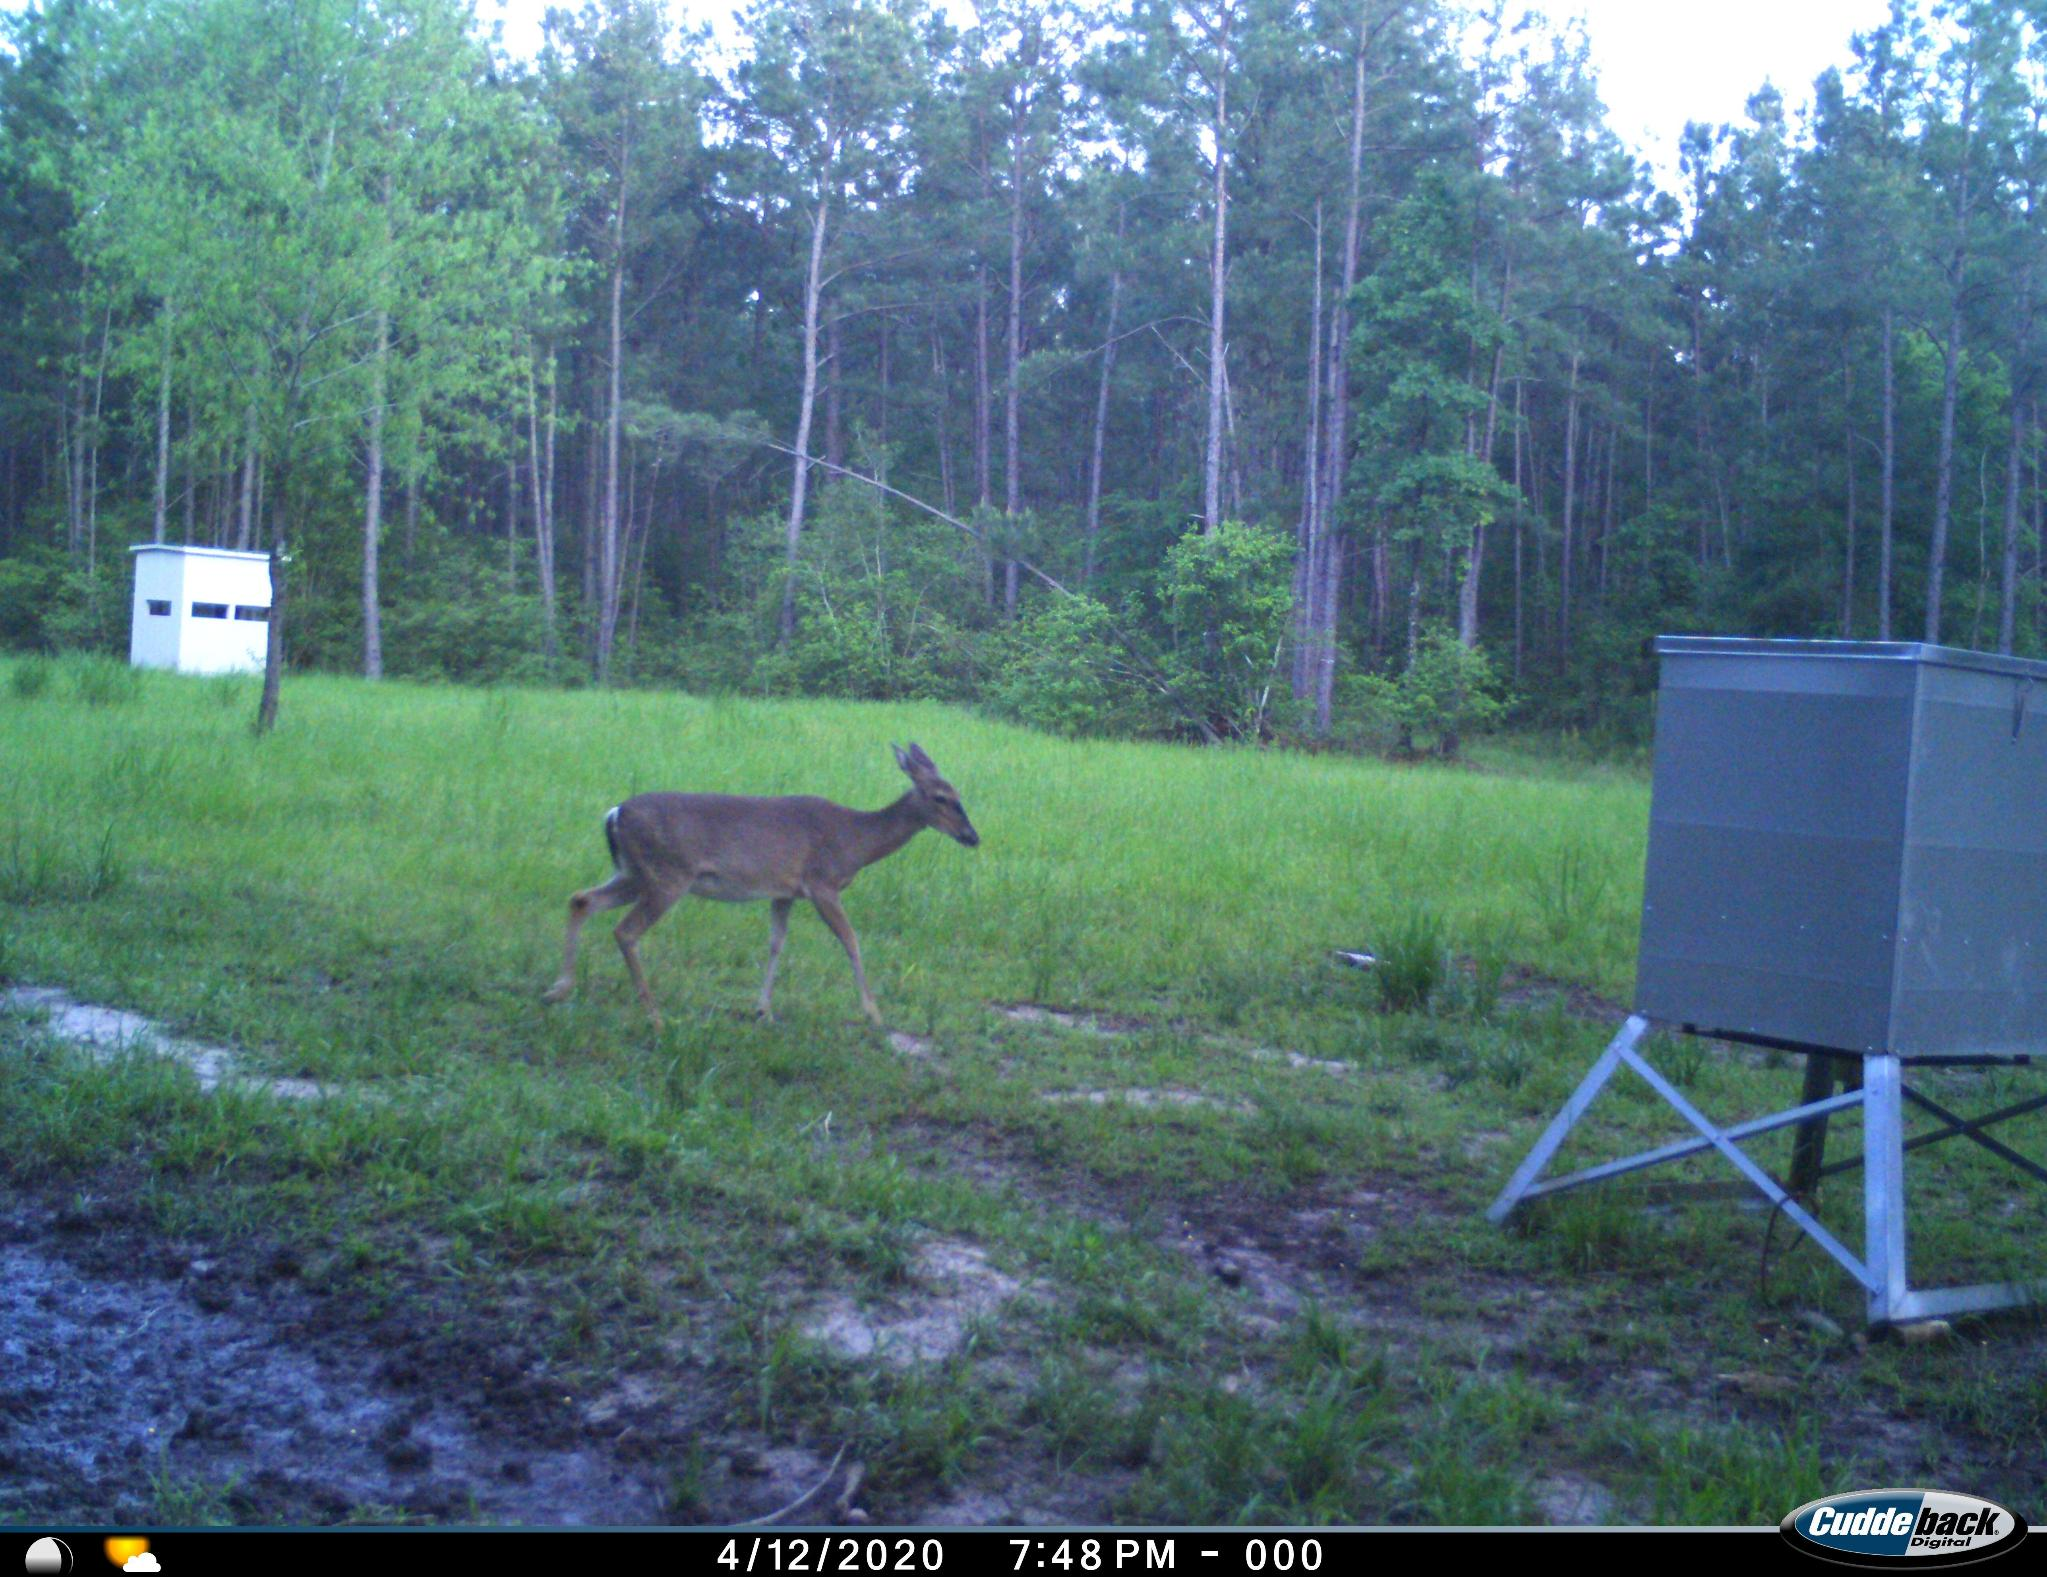Deer: (551, 732, 1004, 1055)
